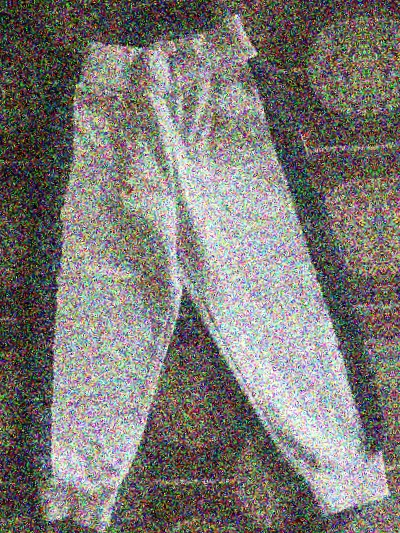Pants: (0, 0, 399, 528), (365, 0, 400, 495)
